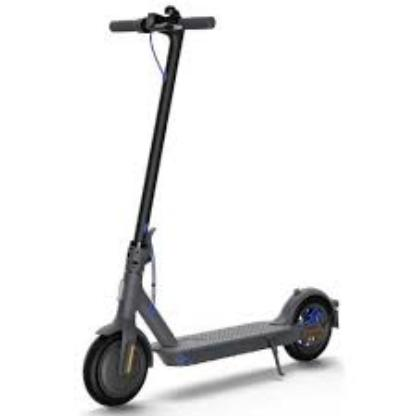bike: (78, 9, 346, 410)
